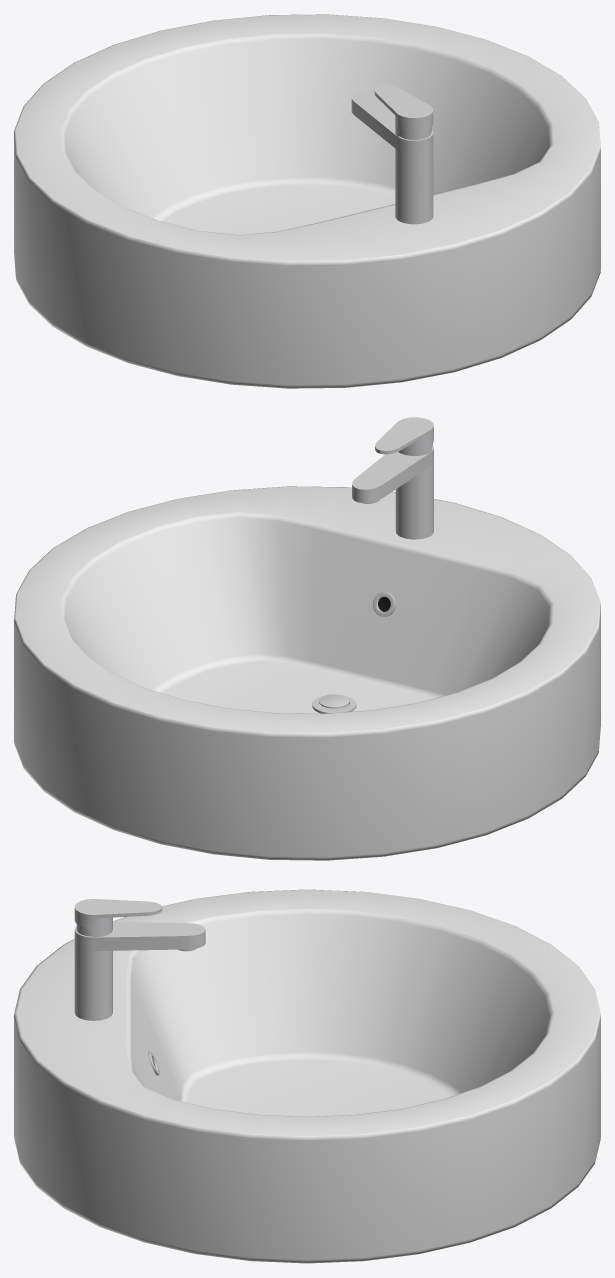
File: WashBasin02.glb
The picture shows the model from 3 angles, top to bottom: view 1: azimuth 30°, elevation 25°; view 2: azimuth 150°, elevation 25°; view 3: azimuth 270°, elevation 25°; orthographic projection.
Parts seen in each view (by area): view 1: WashBasin02_model, Faucet02, FaucetLever02; view 2: WashBasin02_model, Faucet02, FaucetLever02; view 3: WashBasin02_model, Faucet02, FaucetLever02.
Boxes of the visible parts, left/top/right/bottom form: WashBasin02_model: left=14, top=14, right=600, bottom=388; Faucet02: left=351, top=91, right=433, bottom=224; FaucetLever02: left=374, top=84, right=433, bottom=136; WashBasin02_model: left=14, top=486, right=600, bottom=860; Faucet02: left=352, top=445, right=433, bottom=539; FaucetLever02: left=375, top=417, right=433, bottom=455; WashBasin02_model: left=14, top=889, right=600, bottom=1263; Faucet02: left=74, top=921, right=205, bottom=1020; FaucetLever02: left=74, top=899, right=162, bottom=937.
Size of the model in its own units: 1.54 by 0.6762 by 1.54.
1 material, 1 textured.
